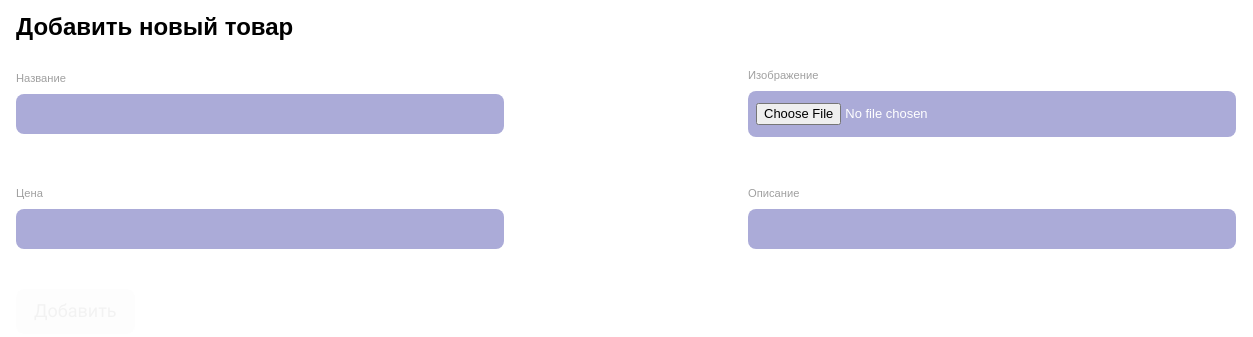
Test case: components/addAd/AddAd › should validate price
Type "0" into the number field. click: x=260, y=229
box: [16,209,504,249]
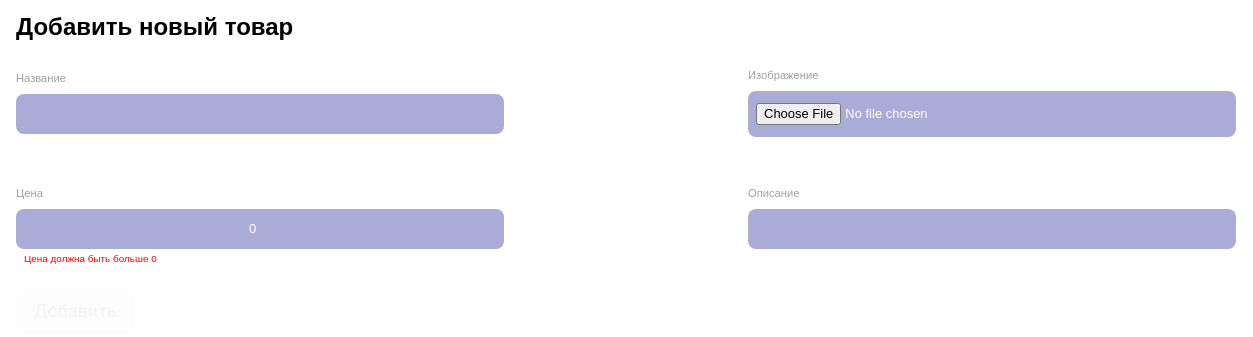
Check: the text "Цена должна быть больше 0" is shown, box [24,253,157,264]
